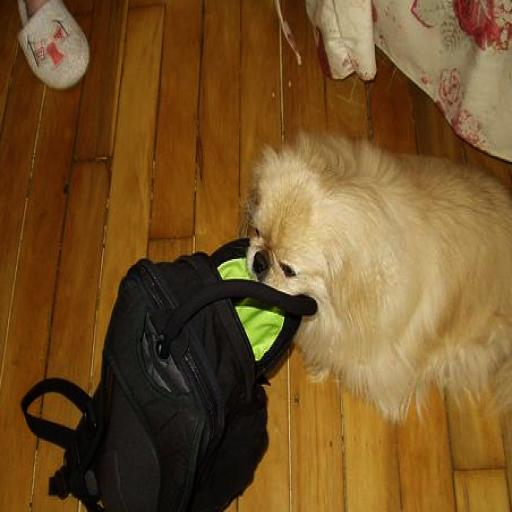dog_face: (243, 169, 351, 314)
